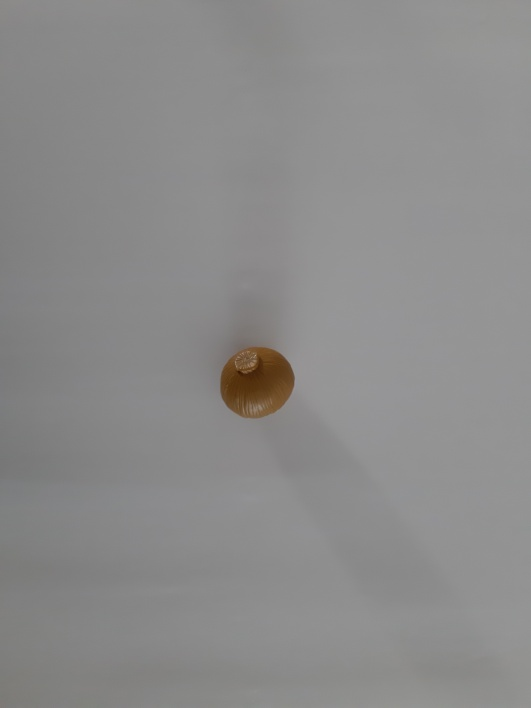onion: (200, 332, 314, 434)
